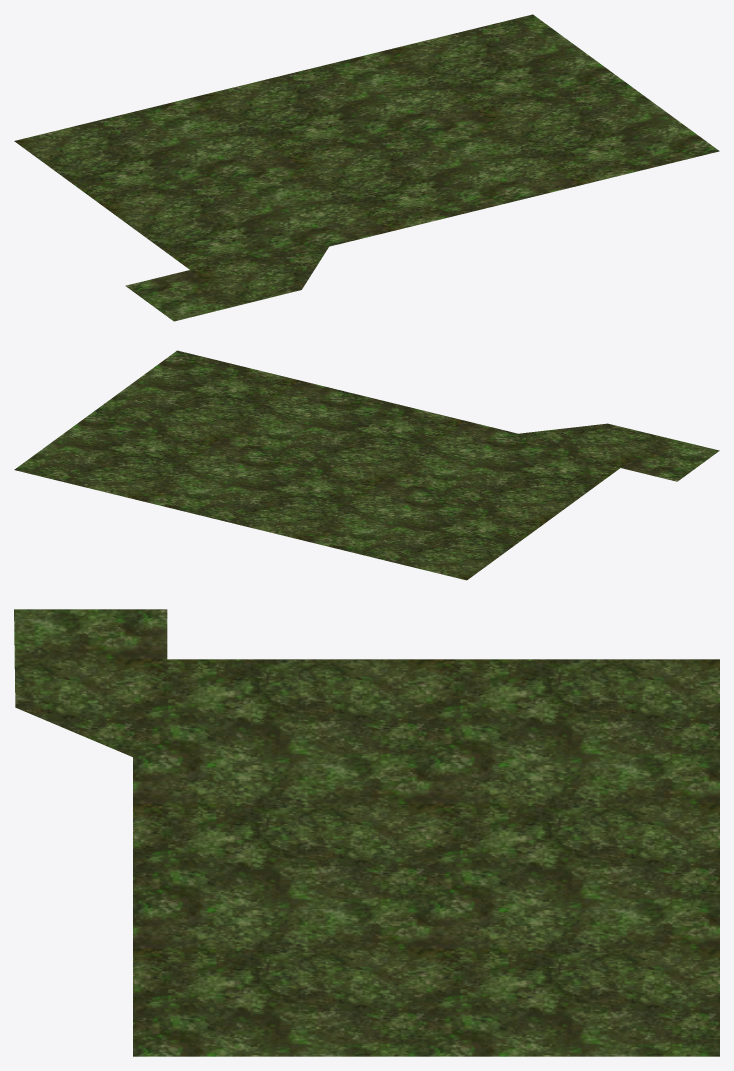
The model's file is OVERHILL_A_01_LINE156.fbx.
3 views of the same model, one above another, from view 1: azimuth 30°, elevation 25°; view 2: azimuth 150°, elevation 25°; view 3: azimuth 270°, elevation 25° (orthographic). The views are drawn at different scales.
Parts seen in each view (by area): view 1: OVERHILL_A_01_LINE156; view 2: OVERHILL_A_01_LINE156; view 3: OVERHILL_A_01_LINE156.
Boxes of the visible parts, bbox=[...] form: OVERHILL_A_01_LINE156: bbox=[14, 14, 719, 321]; OVERHILL_A_01_LINE156: bbox=[14, 350, 719, 580]; OVERHILL_A_01_LINE156: bbox=[14, 609, 719, 1056].
Bounding box in the file's own units: 89913 × 0.0425 × 60000.
1 material, 1 textured.
